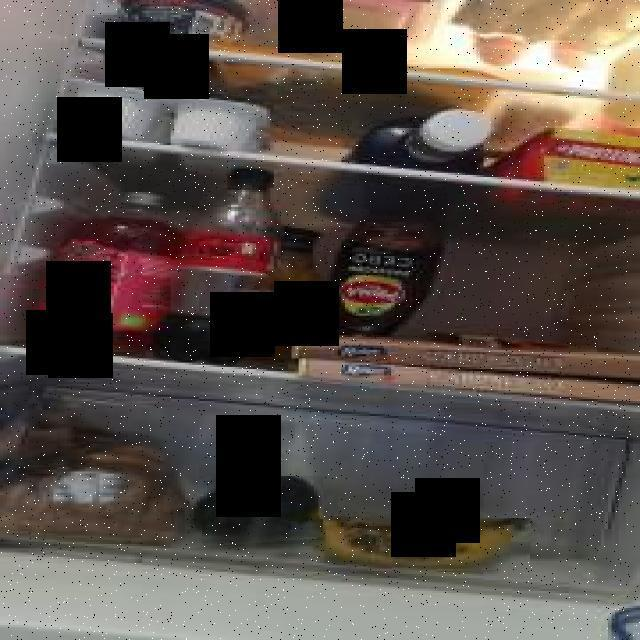avocado: (185, 476, 323, 548)
banana: (326, 518, 532, 574)
